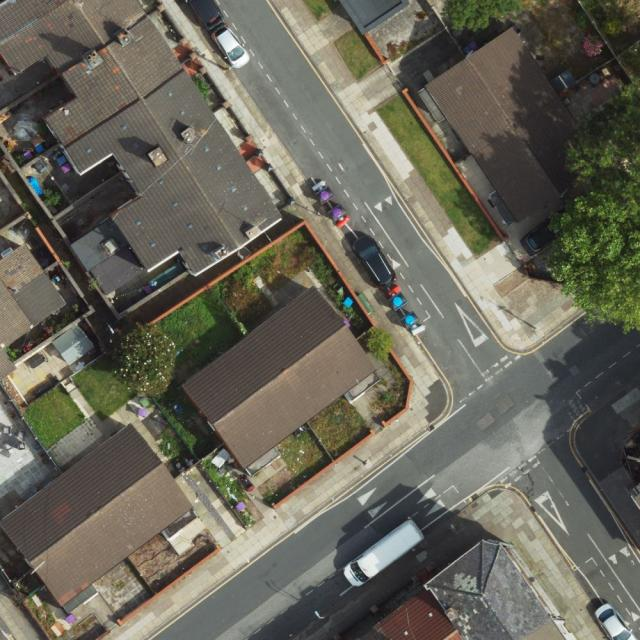roof: (0, 0, 283, 300), (0, 424, 193, 607), (183, 286, 377, 468), (424, 30, 575, 222), (361, 539, 567, 639), (0, 243, 67, 382), (337, 0, 409, 34)
